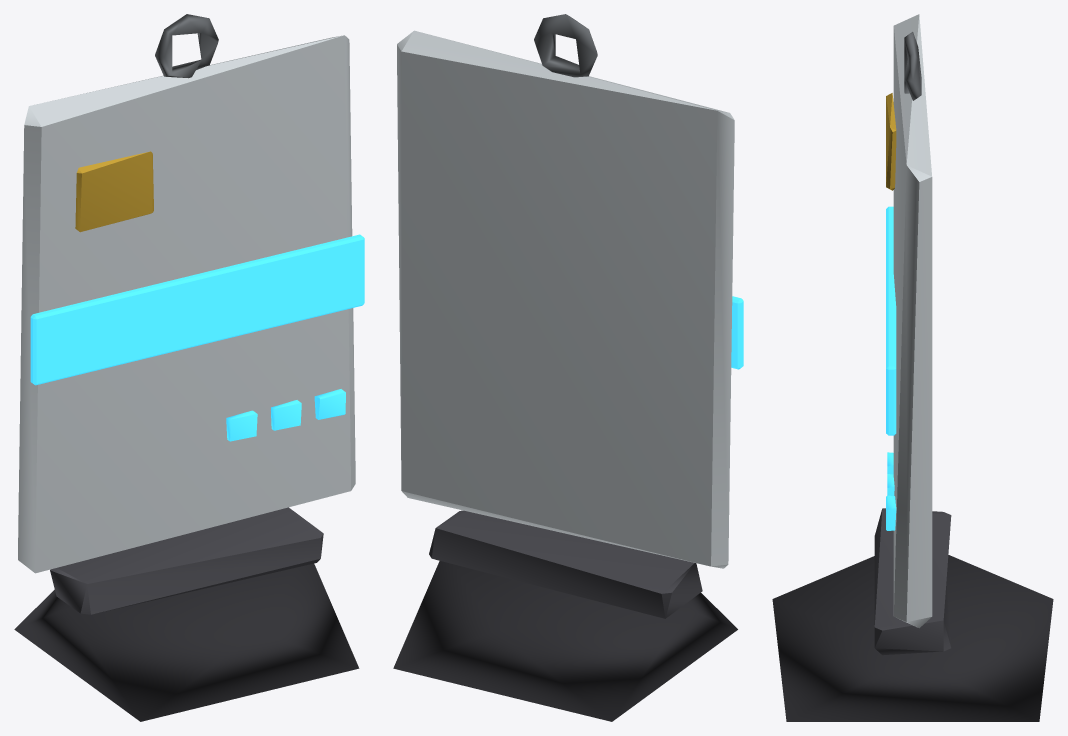
The model's file is keycard_lod1.glb.
3 renders of one model, left to right at view 1: azimuth 30°, elevation 25°; view 2: azimuth 150°, elevation 25°; view 3: azimuth 270°, elevation 25°, orthographic.
Parts seen in each view (by area): view 1: prop.keycard; view 2: prop.keycard; view 3: prop.keycard.
Part boxes in pixels (<box>): prop.keycard: <box>14,14,364,721</box>; prop.keycard: <box>393,14,743,721</box>; prop.keycard: <box>772,14,1053,721</box>.
Bounding box in the file's own units: 0.3006 × 0.55 × 0.2204.
